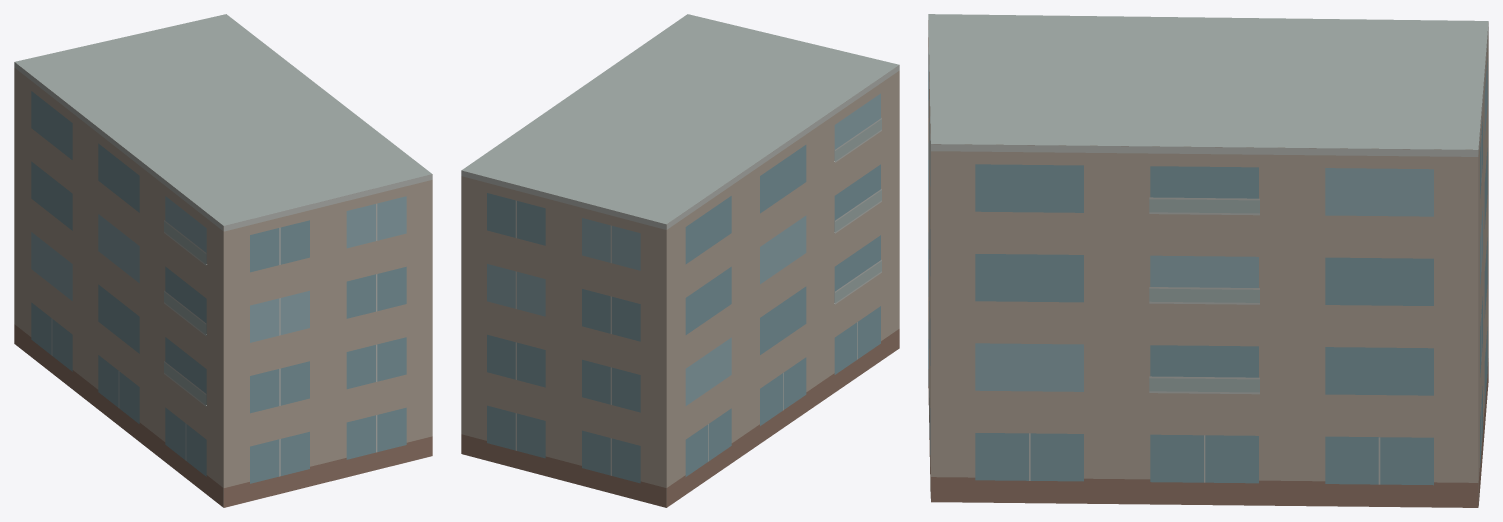
File: survey-upis-32673502.glb
The picture shows the model from 3 angles, left to right: view 1: azimuth 30°, elevation 25°; view 2: azimuth 150°, elevation 25°; view 3: azimuth 270°, elevation 25°; orthographic projection. The views are drawn at different scales.
Parts seen in each view (by area): view 1: survey-upis-32673502.tmp; view 2: survey-upis-32673502.tmp; view 3: survey-upis-32673502.tmp.
Part boxes in pixels (box(x1,y1,x2,y2)): survey-upis-32673502.tmp: box(14, 14, 432, 507); survey-upis-32673502.tmp: box(461, 14, 899, 507); survey-upis-32673502.tmp: box(928, 14, 1488, 507).
Size of the model in its own units: 9.94 by 12.2 by 17.31.
